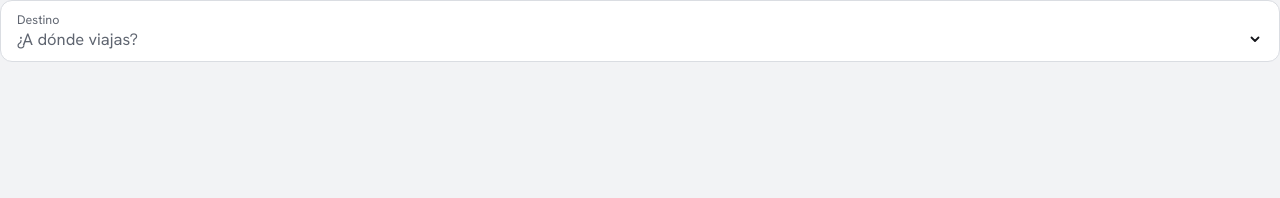
Test: AirportCombobox › elegir con el clic llena el campo con 'Ciudad (CÓDIGO)', cierra la lista y avisa del código
Step 1. Type "lon" into the dropdown → (640, 38), box left=17, top=27, right=1263, bottom=50
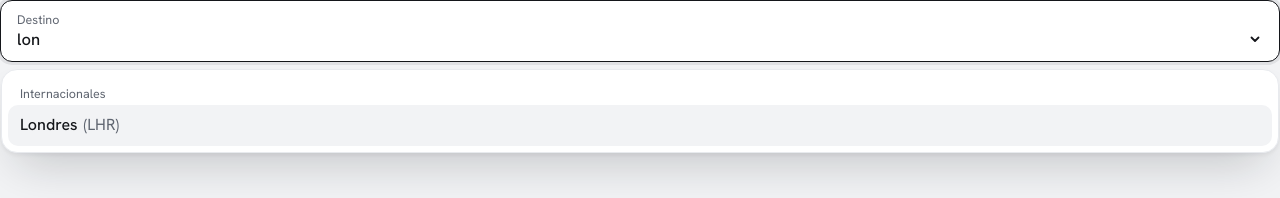
Step 2. Click the option "Londres (LHR)" → (49, 124), box left=8, top=105, right=1272, bottom=146
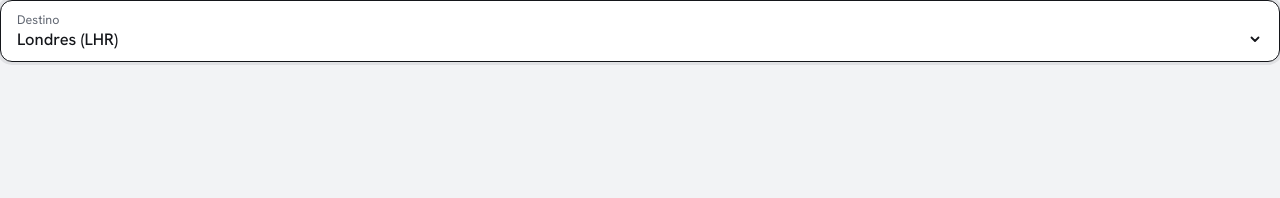
Expected: the dropdown holds "Londres (LHR)", left=17, top=27, right=1263, bottom=50
Expected: the list is gone
